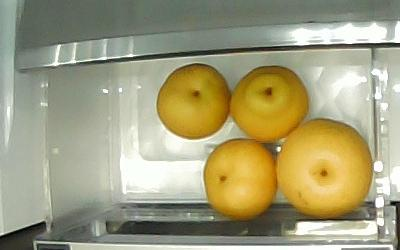pear: (273, 116, 373, 218), (227, 64, 309, 142), (202, 137, 277, 219), (155, 61, 231, 139)
